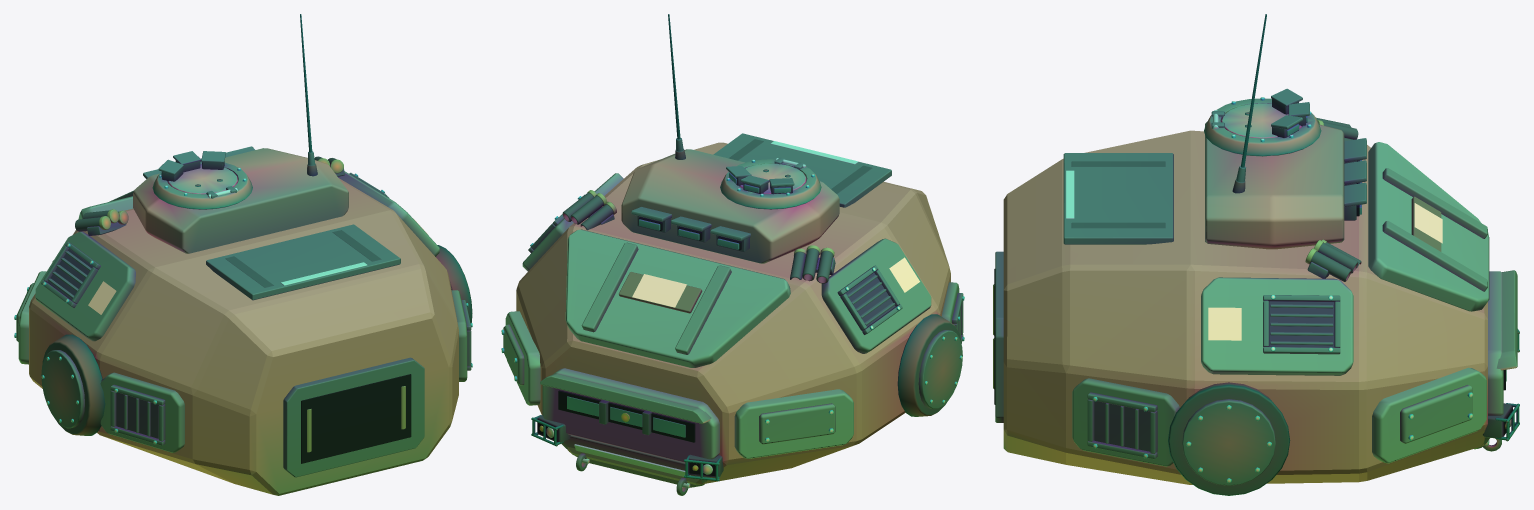
The model's file is core_fortress.glb.
The picture shows the model from 3 angles, left to right: view 1: azimuth 30°, elevation 25°; view 2: azimuth 150°, elevation 25°; view 3: azimuth 270°, elevation 25°; orthographic projection. The views are drawn at different scales.
Parts seen in each view (by area): view 1: Body__armor_sub, Body__gunmetal, Body__dark, Body__bore, Body__armor, Body__brass, Body__decal; view 2: Body__armor_sub, Body__armor, Body__gunmetal, Body__dark, Body__glass, Body__bore, Body__decal, Body__hazard, Body__armor_oxide, Body__chrome; view 3: Body__armor_sub, Body__armor, Body__gunmetal, Body__dark, Body__decal, Body__chrome, Body__armor_oxide.
Part boxes in pixels (left/top/right/bottom): Body__armor_sub: left=16, top=148, right=467, bottom=495; Body__gunmetal: left=41, top=146, right=471, bottom=477; Body__dark: left=42, top=14, right=472, bottom=438; Body__bore: left=301, top=374, right=411, bottom=463; Body__armor: left=18, top=164, right=439, bottom=364; Body__brass: left=99, top=158, right=343, bottom=229; Body__decal: left=88, top=218, right=427, bottom=314; Body__armor_sub: left=503, top=142, right=959, bottom=487; Body__armor: left=505, top=163, right=853, bottom=462; Body__gunmetal: left=528, top=133, right=963, bottom=495; Body__dark: left=537, top=14, right=961, bottom=477; Body__glass: left=567, top=172, right=790, bottom=437; Body__bore: left=538, top=217, right=741, bottom=476; Body__decal: left=632, top=257, right=919, bottom=307; Body__hazard: left=574, top=141, right=857, bottom=478; Body__armor_oxide: left=619, top=272, right=702, bottom=313; Body__chrome: left=501, top=158, right=964, bottom=488; Body__armor_sub: left=1003, top=98, right=1517, bottom=484; Body__armor: left=1201, top=103, right=1503, bottom=463; Body__gunmetal: left=995, top=88, right=1519, bottom=485; Body__dark: left=1071, top=14, right=1512, bottom=495; Body__decal: left=1208, top=203, right=1442, bottom=340; Body__chrome: left=1093, top=97, right=1489, bottom=483; Body__armor_oxide: left=1411, top=196, right=1441, bottom=251.
Bounding box in the file's own units: 2.21 × 2.14 × 2.2.
